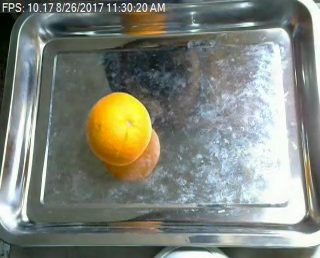Orange: (84, 90, 152, 166)
